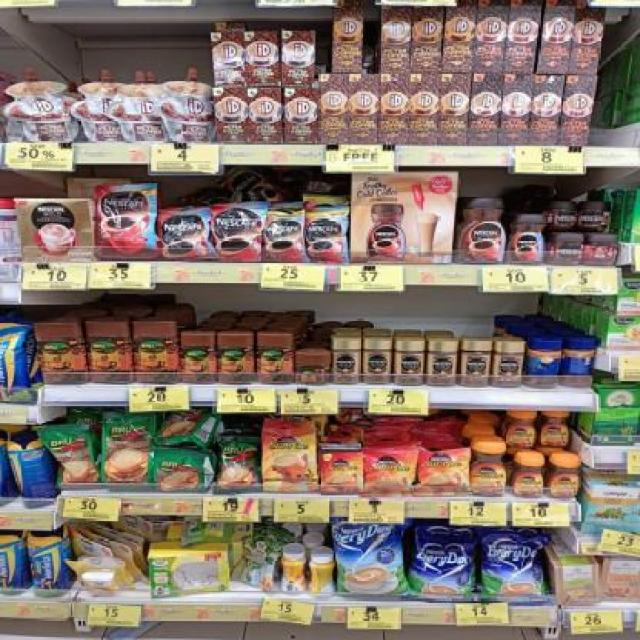Coffee: (95, 186, 157, 260), (263, 434, 317, 492), (459, 200, 506, 263), (157, 209, 214, 260), (211, 207, 263, 259), (305, 213, 347, 262), (506, 214, 546, 264), (419, 452, 466, 494), (471, 446, 509, 496), (366, 454, 412, 495), (266, 215, 305, 262), (461, 339, 490, 387), (494, 342, 523, 388), (395, 339, 423, 386), (512, 458, 543, 499), (429, 340, 456, 386), (550, 459, 581, 499), (333, 338, 359, 384), (363, 338, 389, 384), (542, 411, 572, 447), (508, 412, 537, 448), (551, 234, 584, 263), (587, 234, 618, 261), (584, 203, 614, 229), (550, 203, 579, 228)
